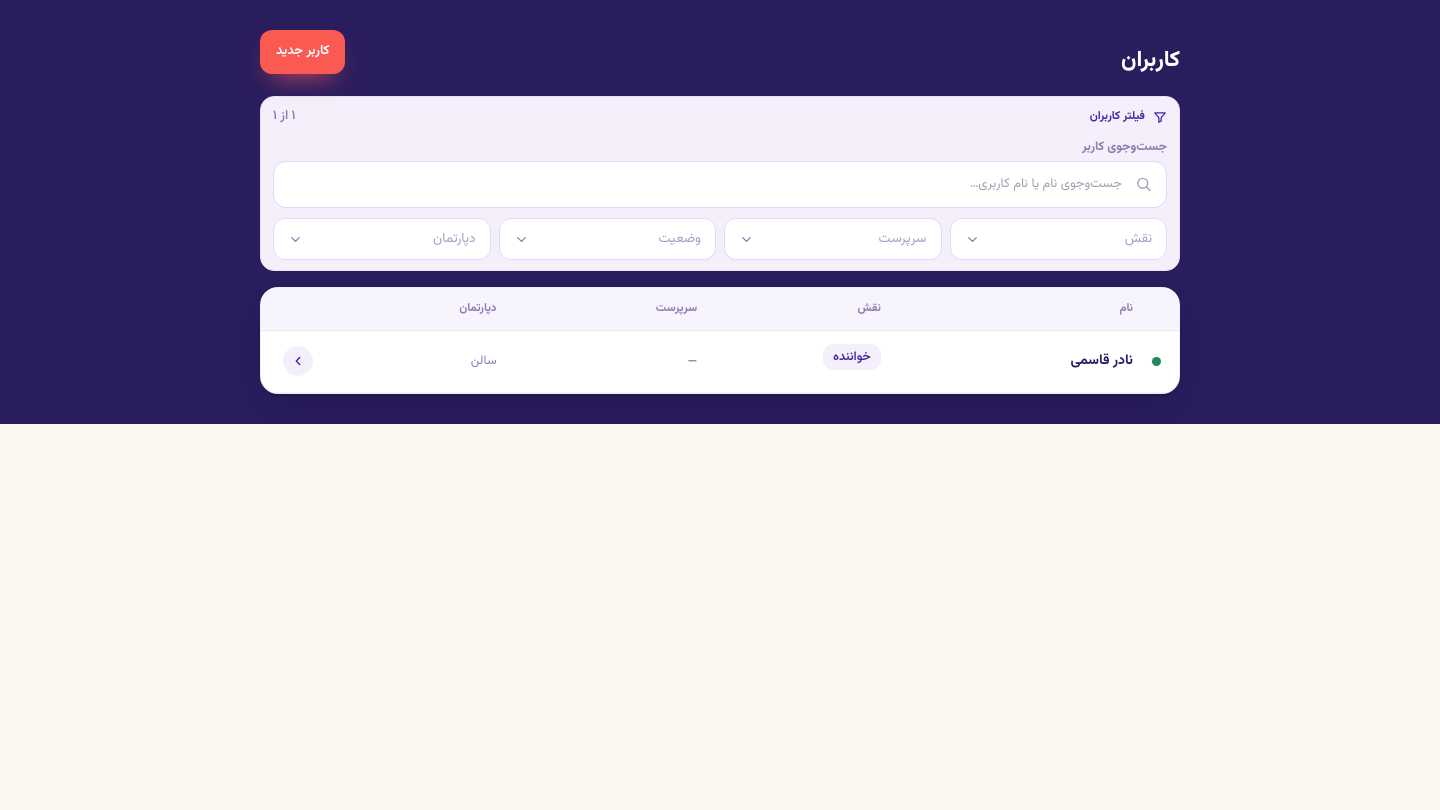
Scenario: the dialog shell (§5.2 Modal, §6.14) › reports a failed read inside the box, not as a page folded into it
This screenshot has width=1440, height=810.
Click the button "کاربر جدید".
click(303, 52)  # box [260, 30, 345, 74]
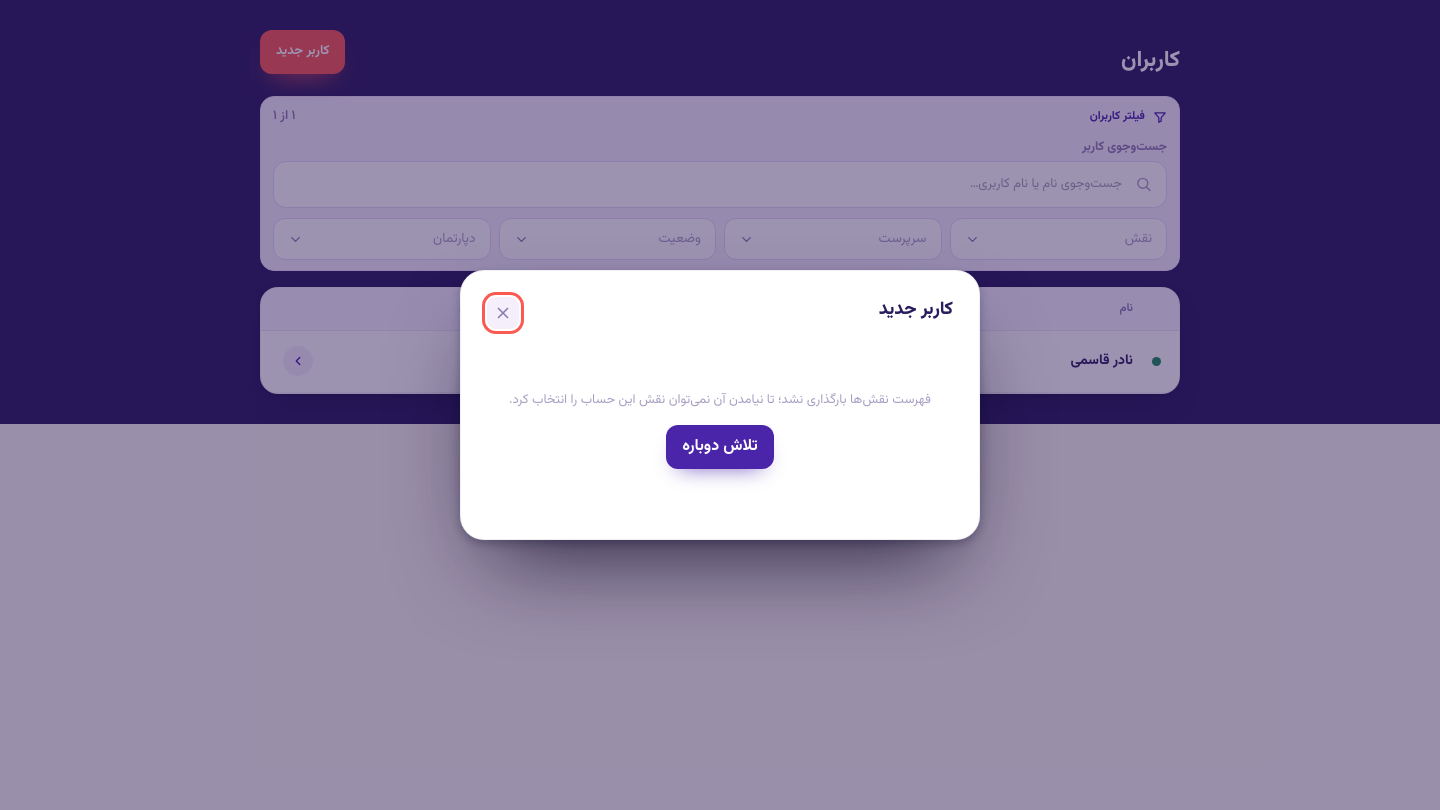
Now the message shows "بارگذاری نشد", box [509, 390, 931, 410]
Now the button "تلاش دوباره" is shown, box [666, 425, 774, 469]
